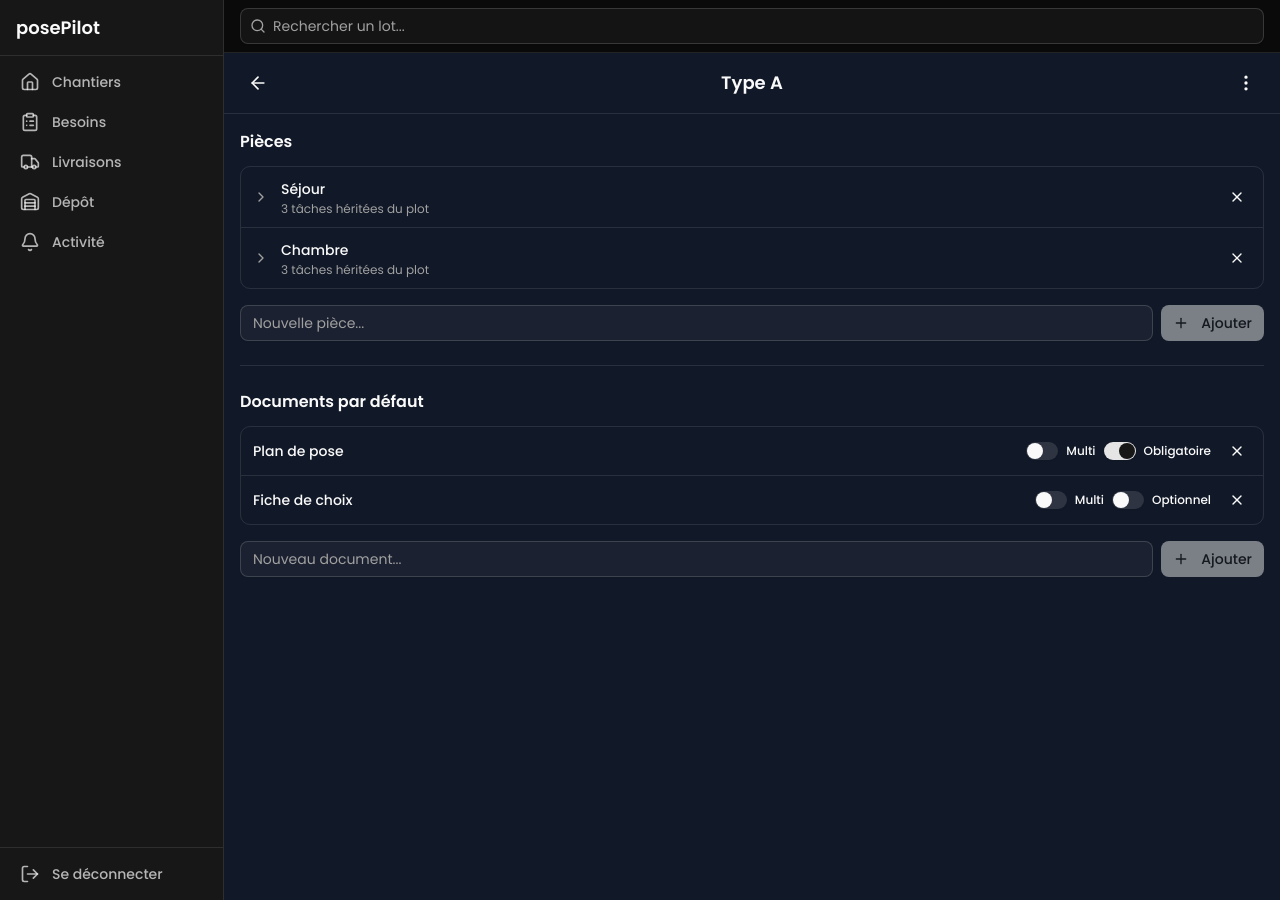
it: VarianteDetailPage — delete variante › shows delete dialog when "Supprimer la variante" is clicked
Check: the heading "Type A" is shown, box [721, 69, 783, 97]
Click the button named "Options de la variante" at (1246, 83), box [1228, 65, 1264, 101]
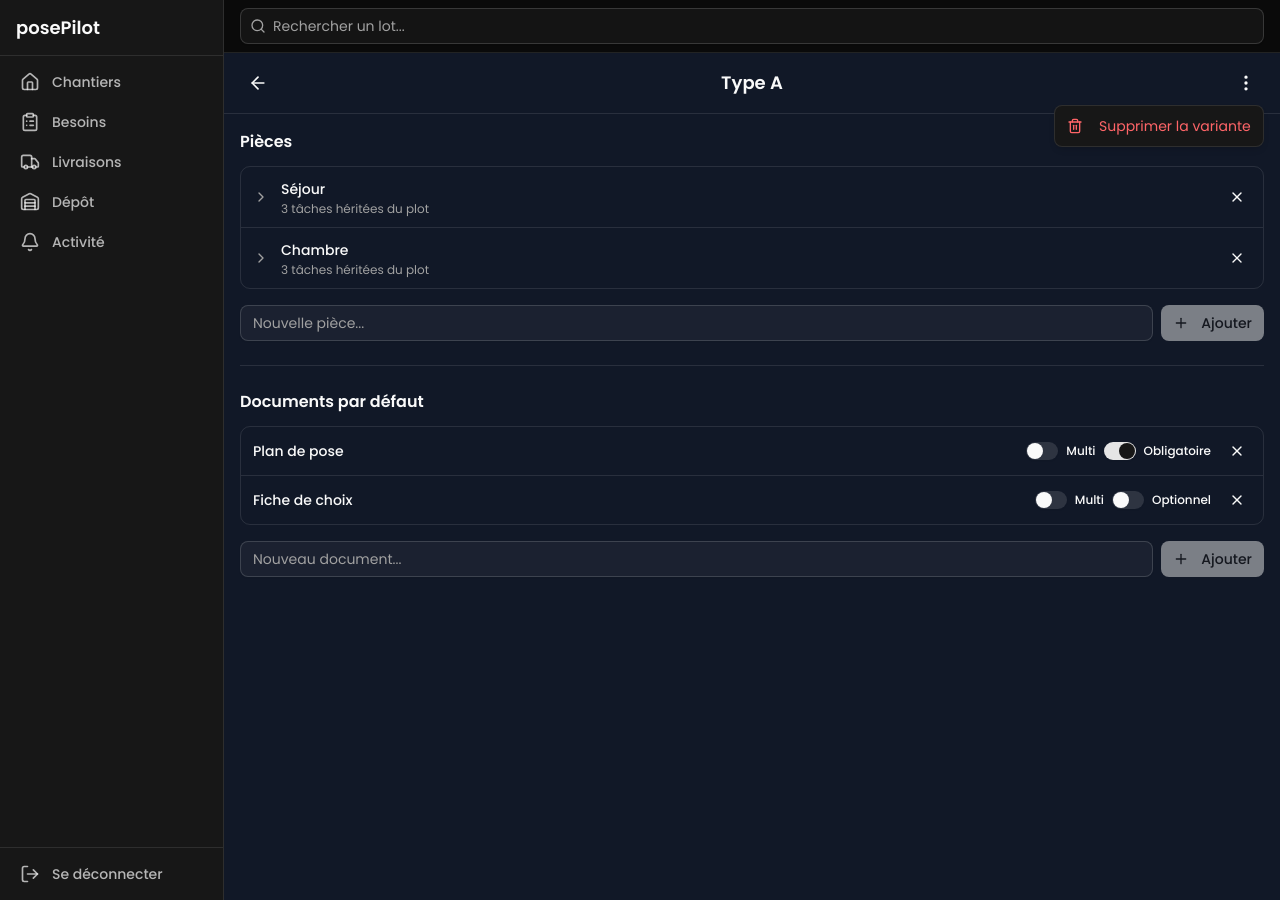
Click the menu item "Supprimer la variante" at (1159, 126), box [1059, 110, 1259, 142]
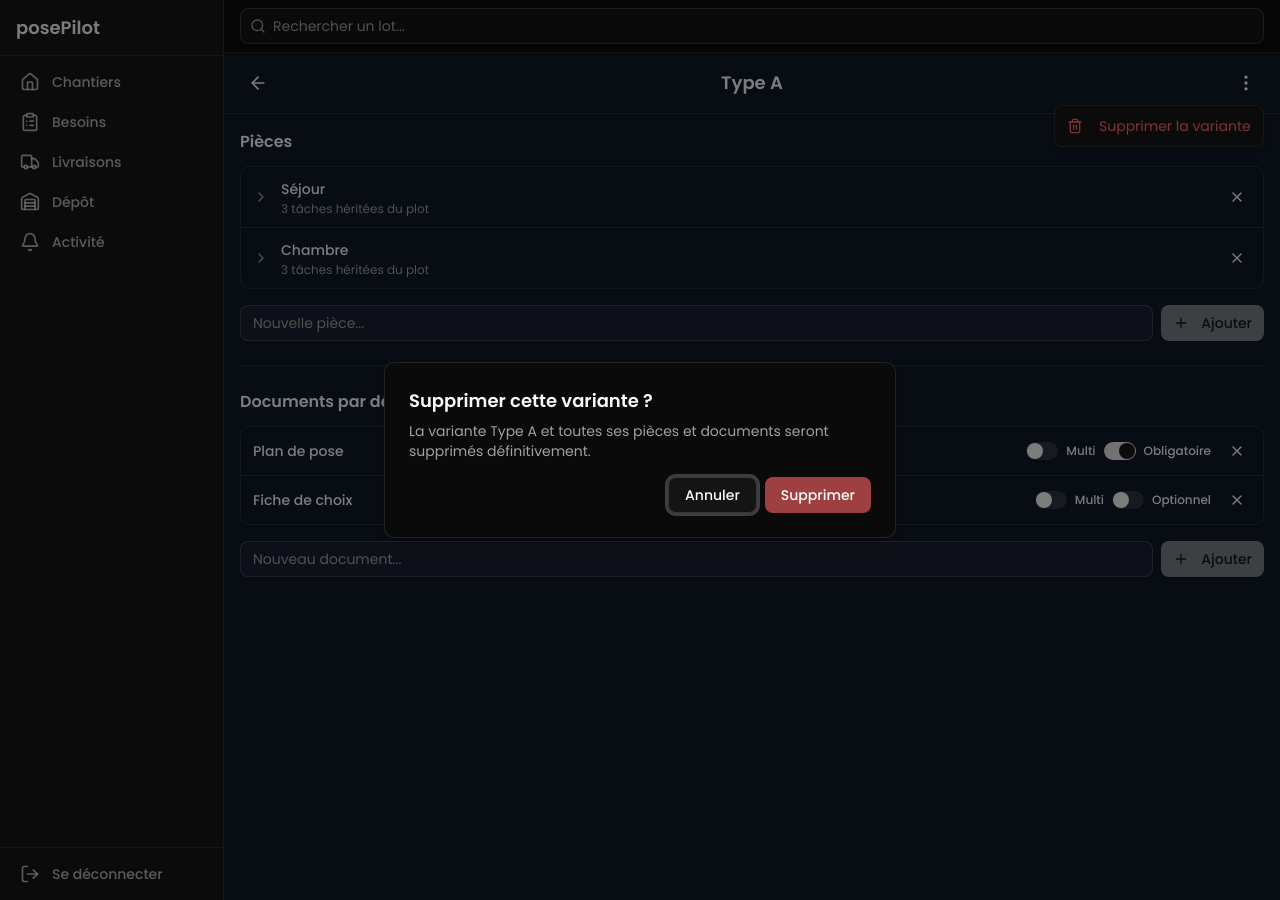
Check: the dialog is shown, box [384, 362, 896, 538]
Check: the heading "Supprimer cette variante ?" is shown, box [409, 387, 653, 415]
Check: the text "Type A et toutes ses pièces et documents seront supprimés" is shown, box [409, 421, 871, 461]
